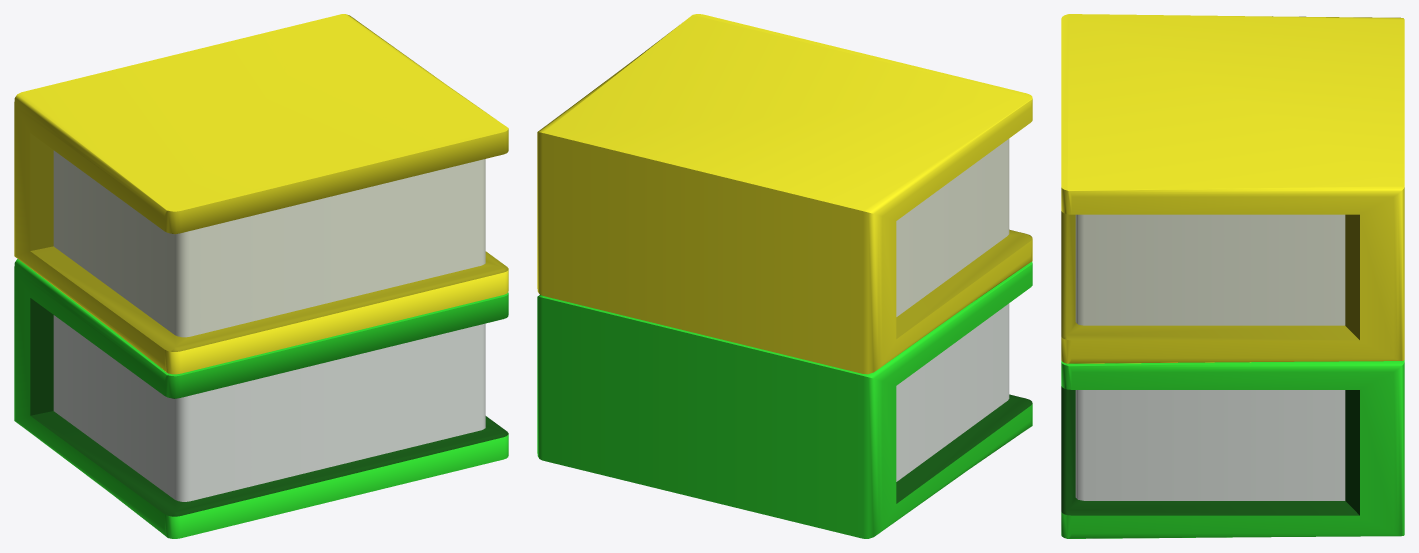
File: Livros.fbx
3 views of the same model, side by side, from view 1: azimuth 30°, elevation 25°; view 2: azimuth 150°, elevation 25°; view 3: azimuth 270°, elevation 25° (orthographic). The views are drawn at different scales.
Visible parts, largest first — view 1: Cube.001; view 2: Cube.001; view 3: Cube.001.
Part boxes in pixels (x1=…): Cube.001: x1=14, y1=14, x2=508, y2=538; Cube.001: x1=537, y1=14, x2=1032, y2=538; Cube.001: x1=1061, y1=14, x2=1404, y2=538.
Size of the model in its own units: 53.08 by 48.6 by 43.44.
2 materials, 2 textured.
